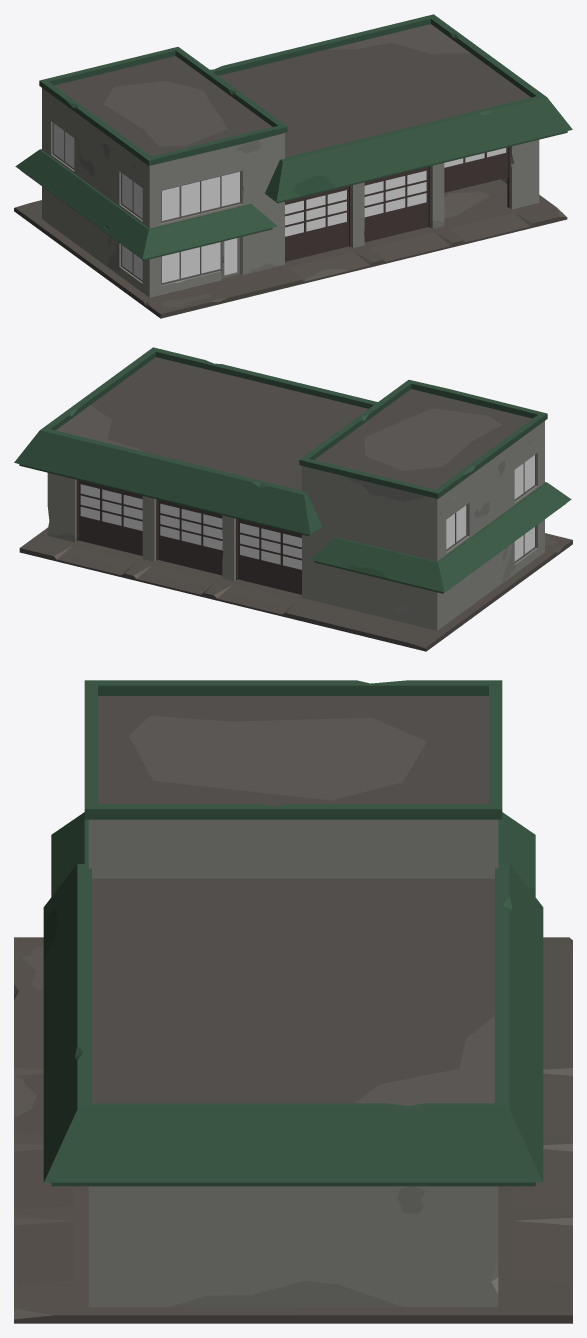
Rendered from SM_Bldg_City_Shop_Big_Workshop.fbx.
3 renders of one model, top to bottom at view 1: azimuth 30°, elevation 25°; view 2: azimuth 150°, elevation 25°; view 3: azimuth 270°, elevation 25°, orthographic. The views are drawn at different scales.
Parts seen in each view (by area): view 1: SM_Bldg_City_Shop_Big_Workshop, SM_Bldg_City_Shop_Big_Workshop_Glass; view 2: SM_Bldg_City_Shop_Big_Workshop, SM_Bldg_City_Shop_Big_Workshop_Glass; view 3: SM_Bldg_City_Shop_Big_Workshop.
Boxes of the visible parts, <box> form: SM_Bldg_City_Shop_Big_Workshop: <box>14,14,572,318</box>; SM_Bldg_City_Shop_Big_Workshop_Glass: <box>54,123,239,282</box>; SM_Bldg_City_Shop_Big_Workshop: <box>14,347,572,651</box>; SM_Bldg_City_Shop_Big_Workshop_Glass: <box>446,455,534,560</box>; SM_Bldg_City_Shop_Big_Workshop: <box>14,680,572,1323</box>.
Bounding box in the file's own units: 2277 × 727 × 1350.
